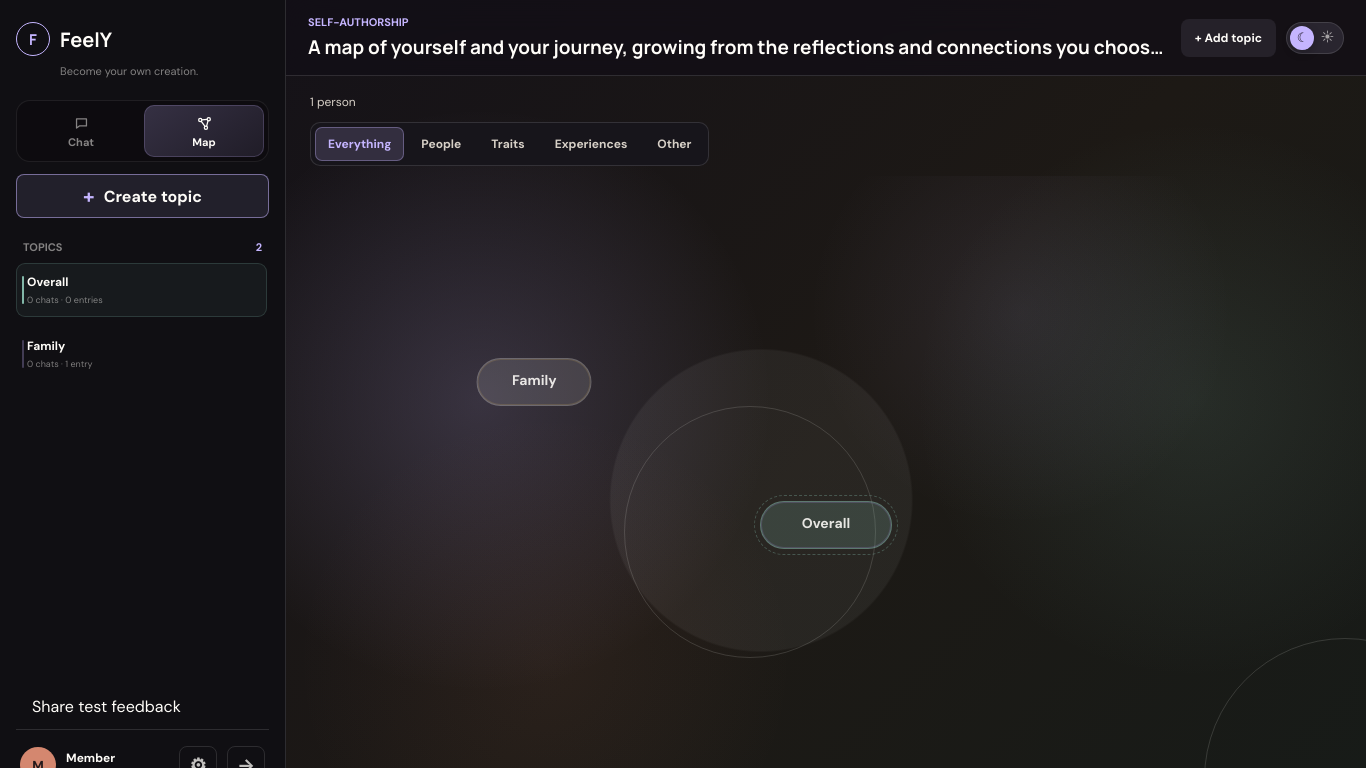
Scenario: real My Map route/graph/forms › topic create uses original fields/radios/trimming/default parent and exact payload
The width and height of the screenshot is (1366, 768).
Click the button "+ Add topic" at (1228, 38), box x1=1181 y1=18 x2=1276 y2=56
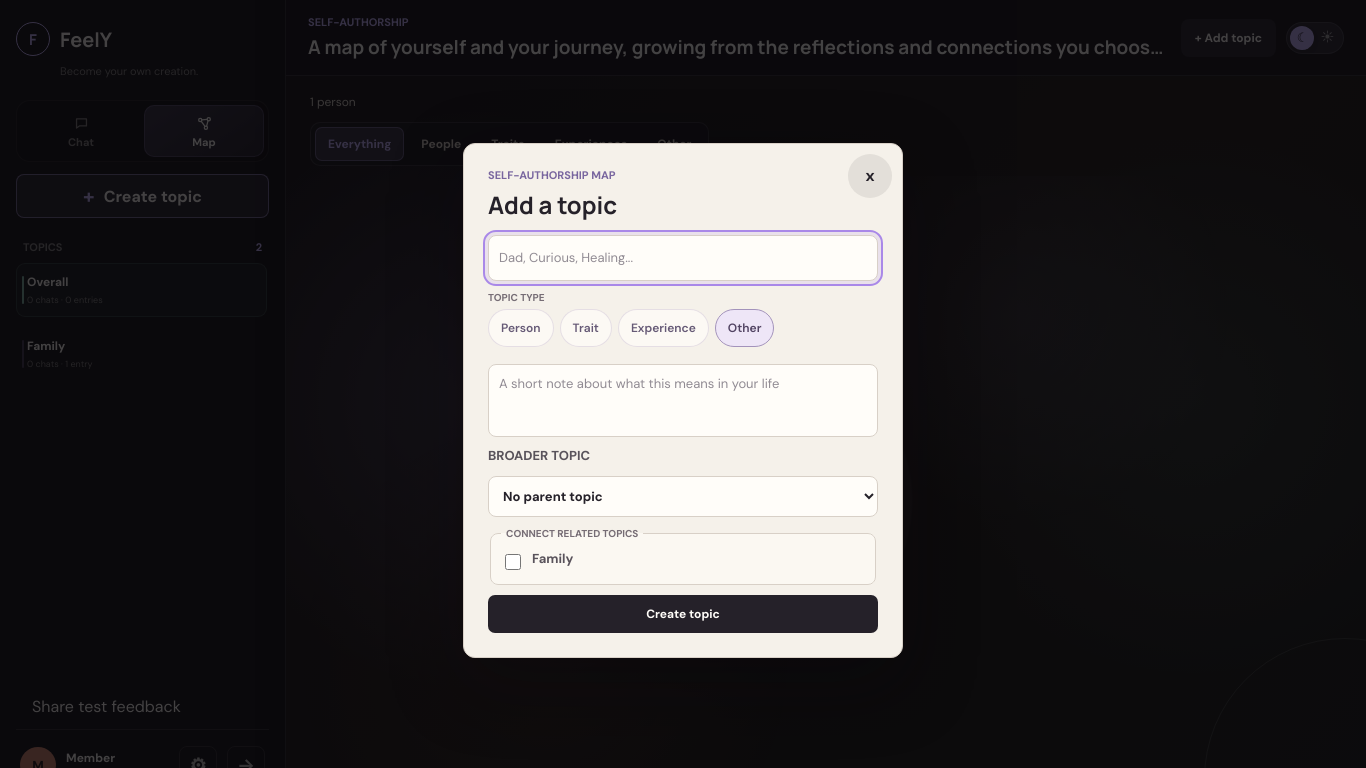
Type "  Healing  " into the field named "Topic name" at (683, 258), box x1=488 y1=234 x2=878 y2=280
Type "  A short note  " into the text box named "Topic description" at (683, 400), box x1=488 y1=364 x2=878 y2=436
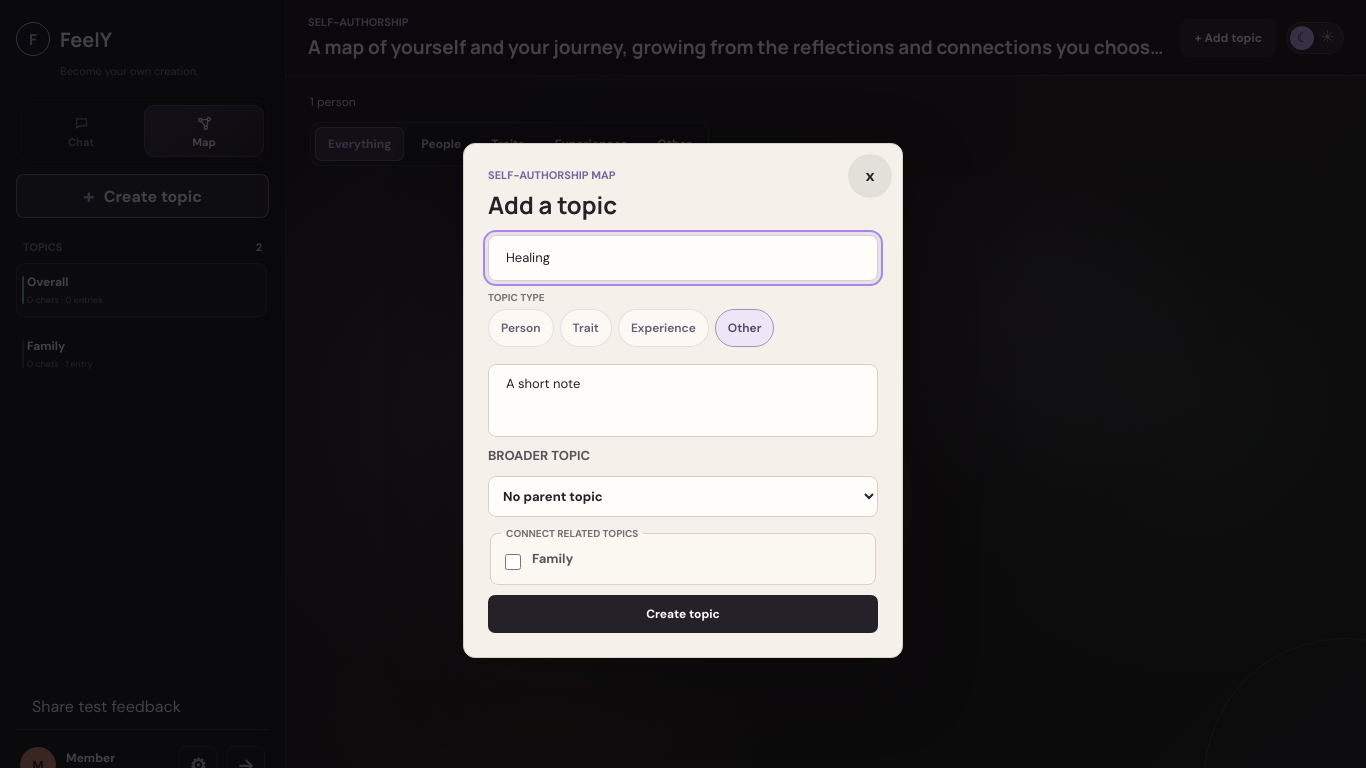
Click the radio button labelled "Experience" at (663, 331), box x1=618 y1=308 x2=709 y2=354
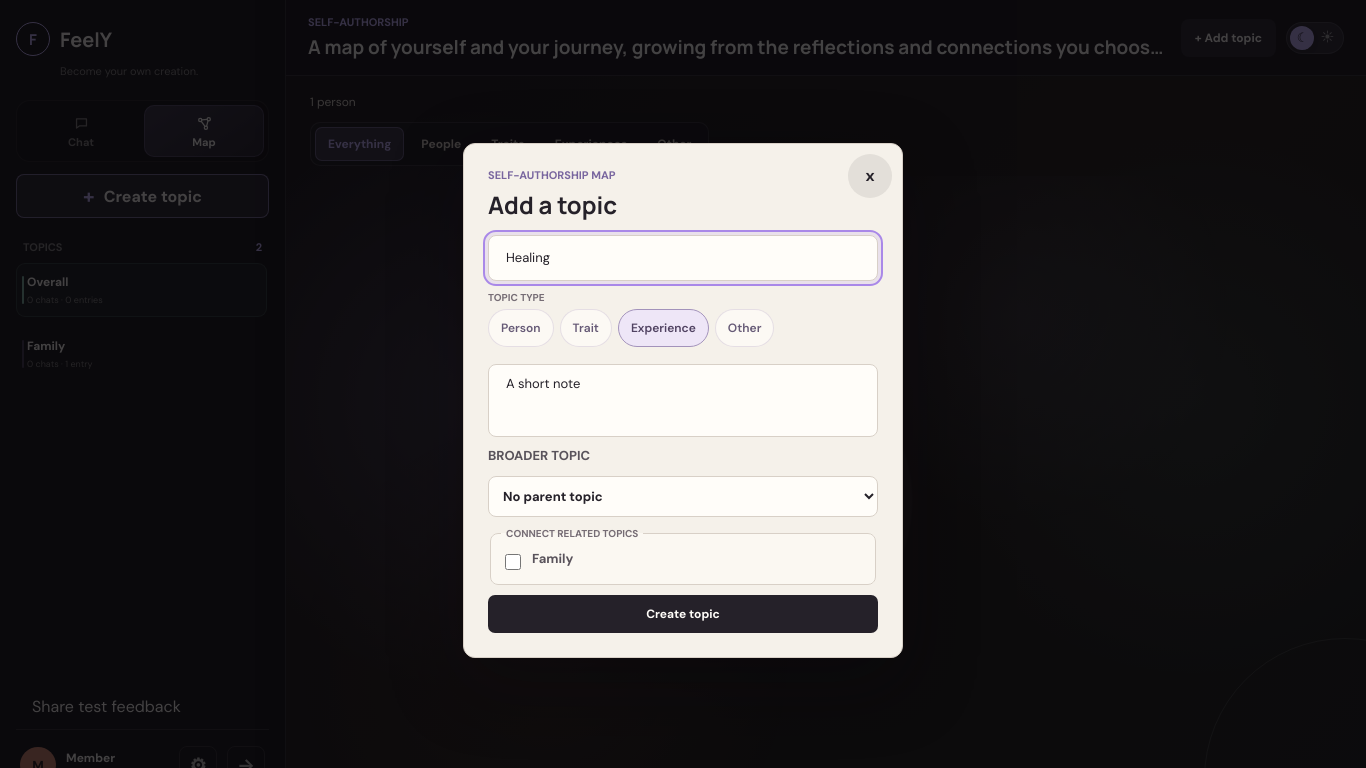
Select "Family" in the dropdown labelled "Broader topic" at (683, 496), box x1=488 y1=476 x2=878 y2=516
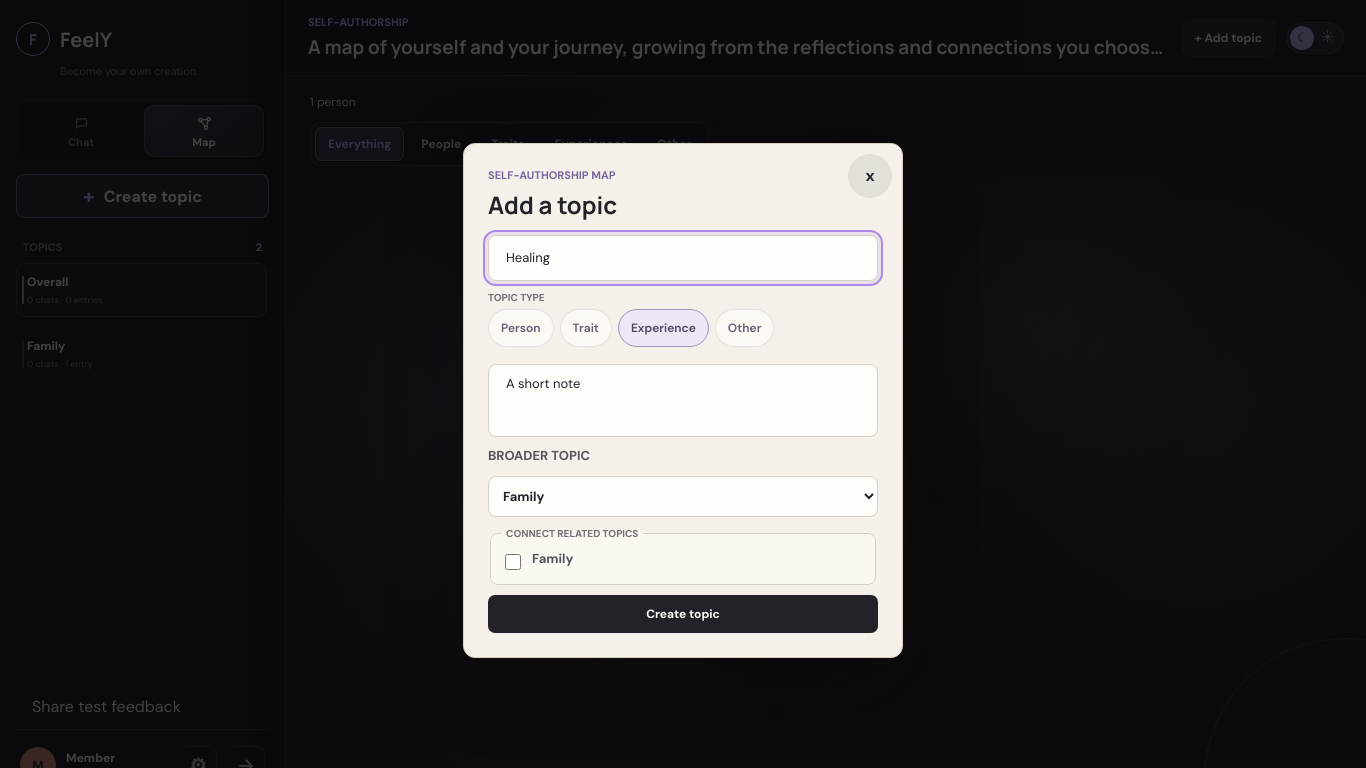
Click the checkbox labelled "Family" at (513, 562), box x1=505 y1=554 x2=521 y2=570
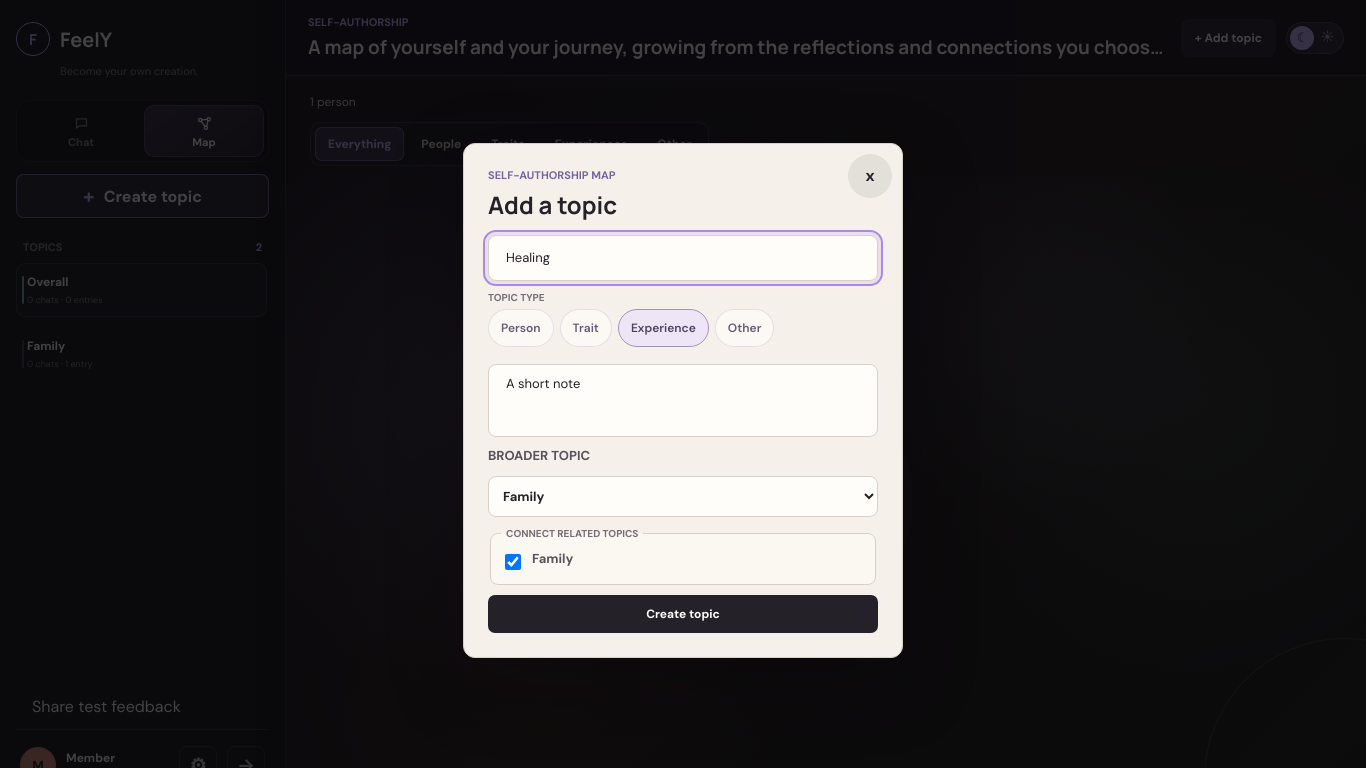
Click the button "Create topic" at (683, 614), box x1=488 y1=594 x2=878 y2=632
(page scrolled)
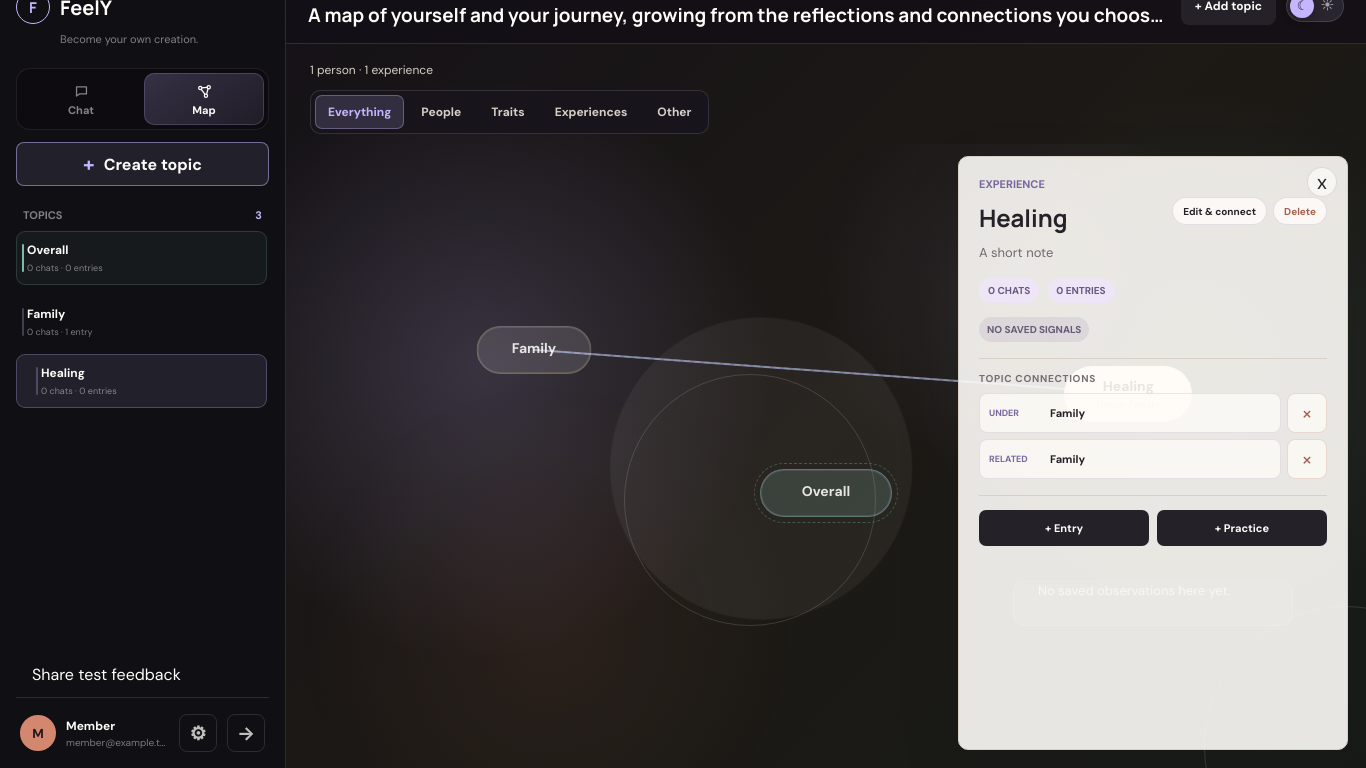
Result: the element named "Healing details" is shown at x1=958 y1=156 x2=1348 y2=750
Result: the dialog is gone
